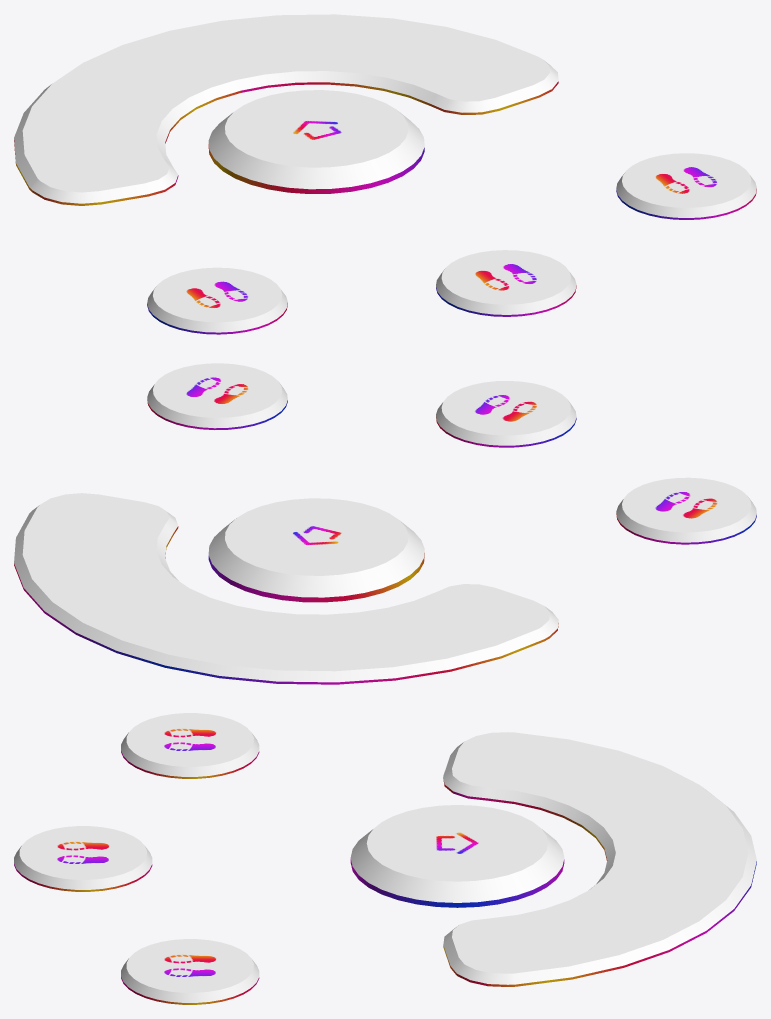
File: PercussionRoom.fbx
3 renders of one model, top to bottom at view 1: azimuth 30°, elevation 25°; view 2: azimuth 150°, elevation 25°; view 3: azimuth 270°, elevation 25°, orthographic.
Parts seen in each view (by area): view 1: bottomPlatform.001, spawnPlatform.001, rightPlatform, leftPlatform.001, grandPlatform.001; view 2: bottomPlatform.001, spawnPlatform.001, rightPlatform, grandPlatform.001, leftPlatform.001; view 3: bottomPlatform.001, spawnPlatform.001, grandPlatform.001, leftPlatform.001, rightPlatform.
Part boxes in pixels (box(x1,y1,x2,y2)): bottomPlatform.001: box(14, 14, 558, 205); spawnPlatform.001: box(208, 90, 424, 193); rightPlatform: box(147, 267, 287, 334); leftPlatform.001: box(616, 153, 756, 219); grandPlatform.001: box(436, 250, 576, 316); bottomPlatform.001: box(14, 493, 558, 684); spawnPlatform.001: box(208, 498, 424, 602); rightPlatform: box(616, 477, 756, 544); grandPlatform.001: box(436, 381, 576, 447); leftPlatform.001: box(147, 363, 287, 429); bottomPlatform.001: box(443, 732, 756, 986); spawnPlatform.001: box(350, 805, 564, 907); grandPlatform.001: box(14, 826, 152, 891); leftPlatform.001: box(121, 939, 259, 1004); rightPlatform: box(121, 713, 259, 778).
Size of the model in its own units: 6.3 by 0.2 by 6.95.
